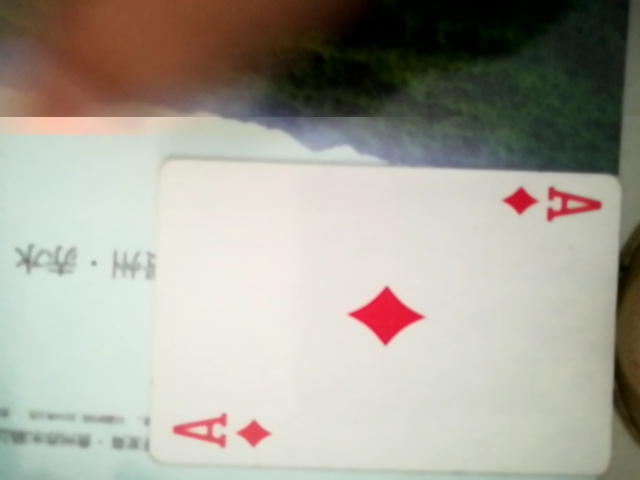fk a: (143, 165, 632, 473)
